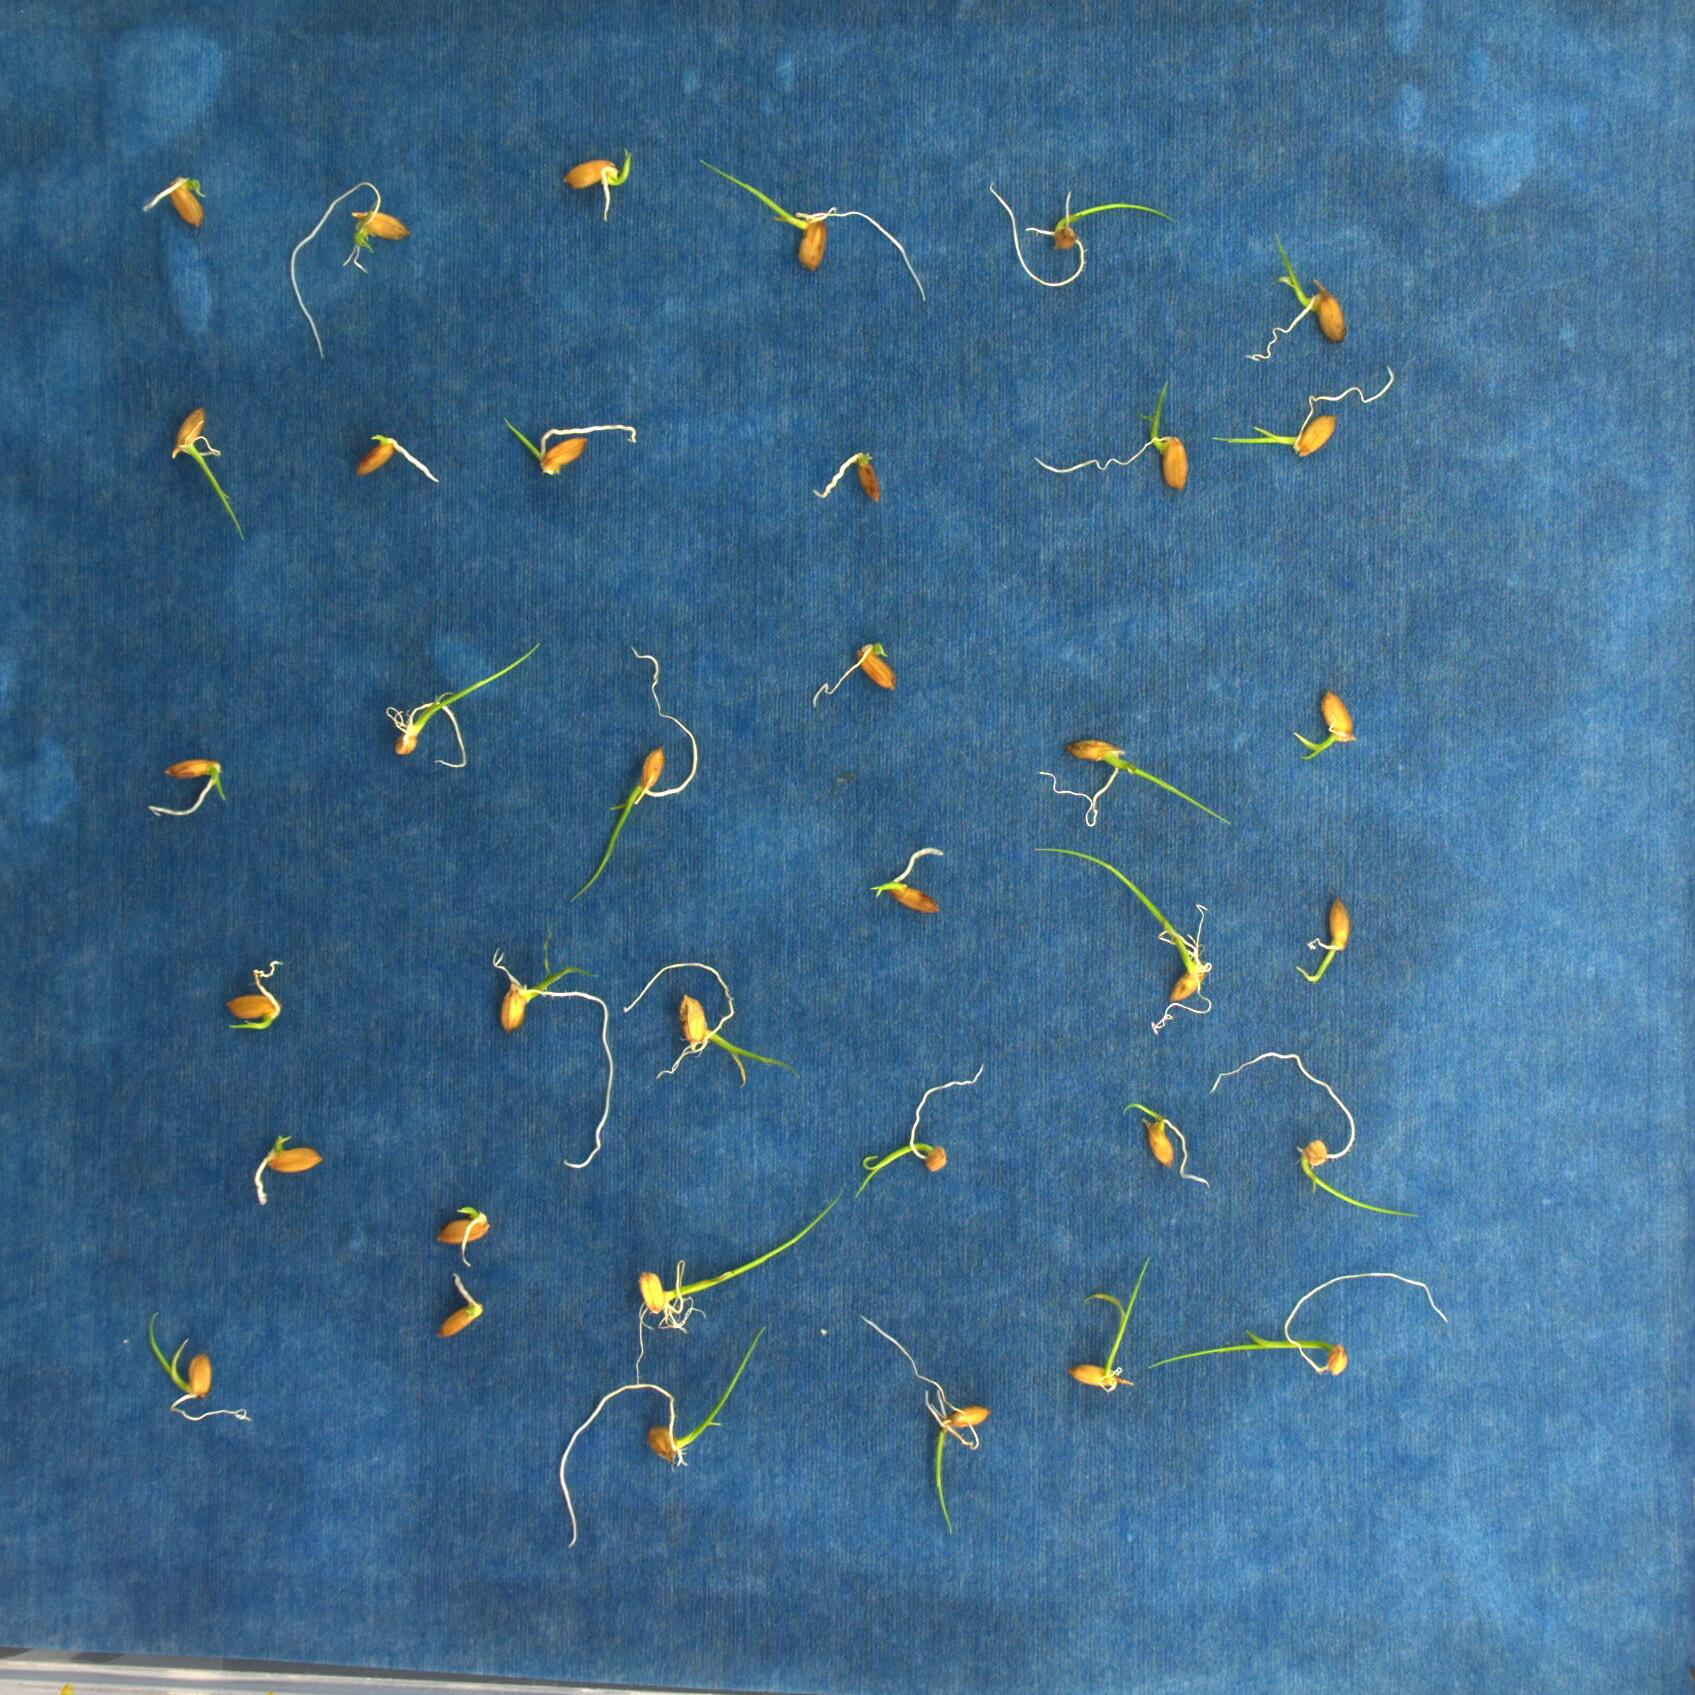not sprout: (337, 413, 447, 498), (810, 632, 922, 706), (865, 843, 959, 925), (799, 444, 896, 506), (251, 1130, 324, 1205), (435, 1276, 494, 1336)
sprout: (546, 1329, 782, 1558), (619, 1183, 849, 1400), (1034, 834, 1231, 1077), (695, 147, 927, 321), (1212, 1046, 1426, 1226), (477, 922, 626, 1177), (1153, 1265, 1450, 1388), (846, 1301, 990, 1544), (577, 649, 706, 894), (281, 171, 413, 365), (983, 174, 1183, 296), (373, 638, 543, 778), (1021, 720, 1225, 832), (1042, 376, 1209, 500), (1203, 362, 1409, 459), (855, 1063, 997, 1198), (1246, 234, 1375, 380), (619, 956, 764, 1080), (143, 1319, 242, 1467), (1068, 1251, 1153, 1419), (154, 399, 248, 543), (498, 411, 643, 480), (1114, 1093, 1208, 1198), (1288, 893, 1366, 989), (553, 143, 647, 220), (138, 744, 233, 820), (217, 965, 296, 1052), (1284, 681, 1369, 761), (428, 1200, 500, 1263), (141, 168, 210, 231)
